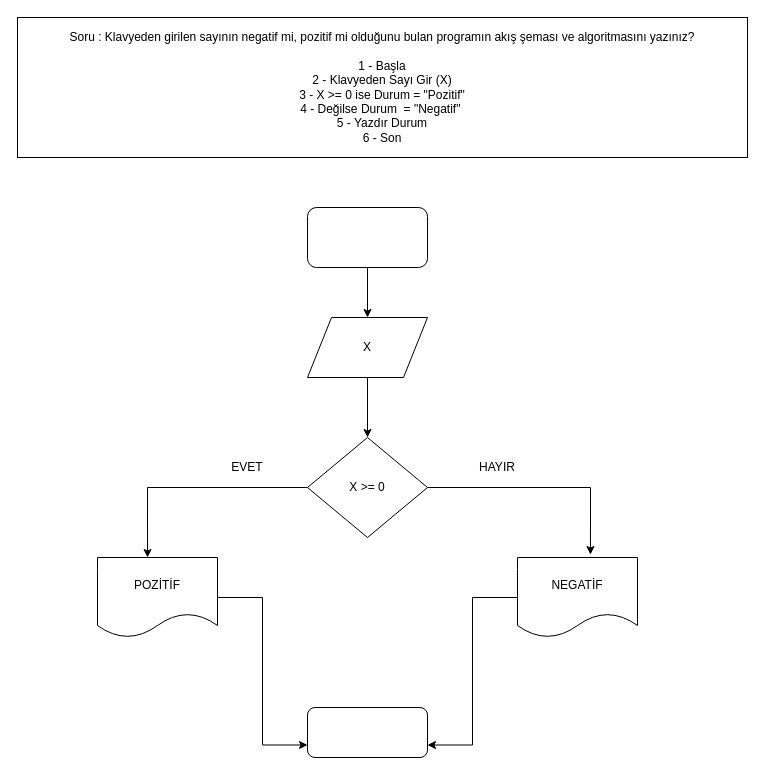
Some shapes in this 765 by 775 pixel diagram are drawn without their labels. The box of each missing label's shape, as (x1, y1, x2, y2) in pixels:
BAŞLA: (306, 206, 428, 268)
SON: (306, 706, 428, 758)
